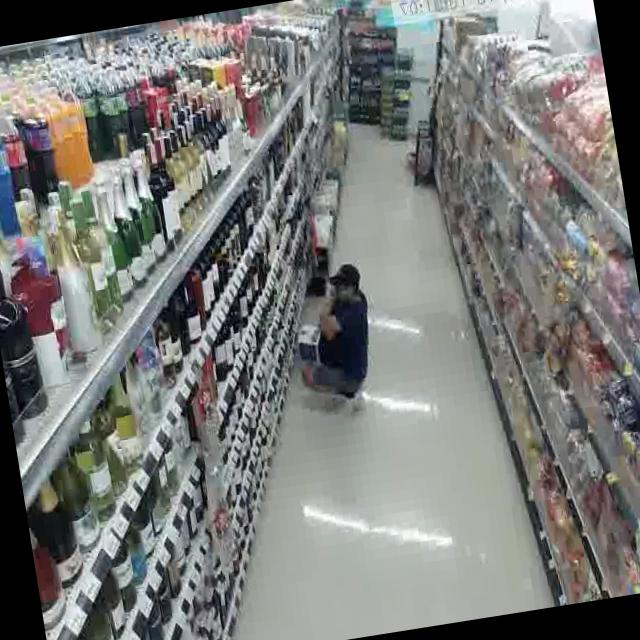shoplifting: (274, 252, 394, 426)
